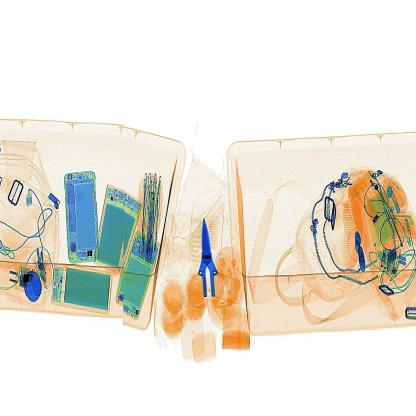gun: (178, 219, 236, 307)
